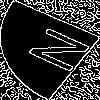N: (25, 25, 100, 80)
